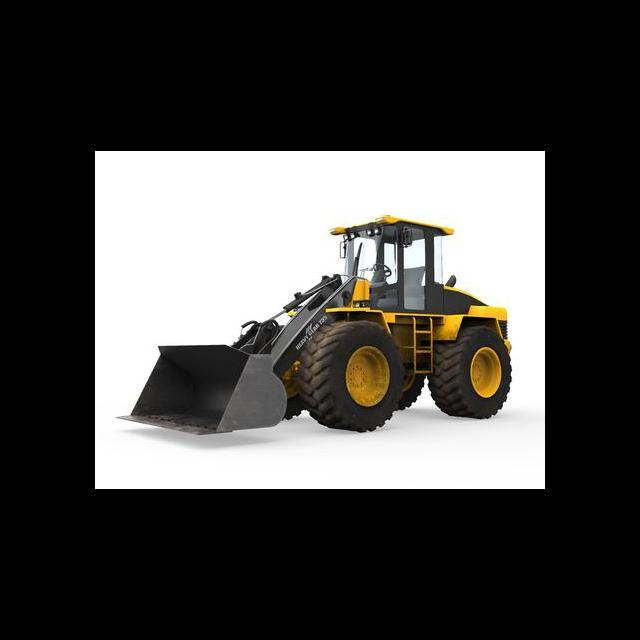wheel loader: (115, 215, 516, 440)
